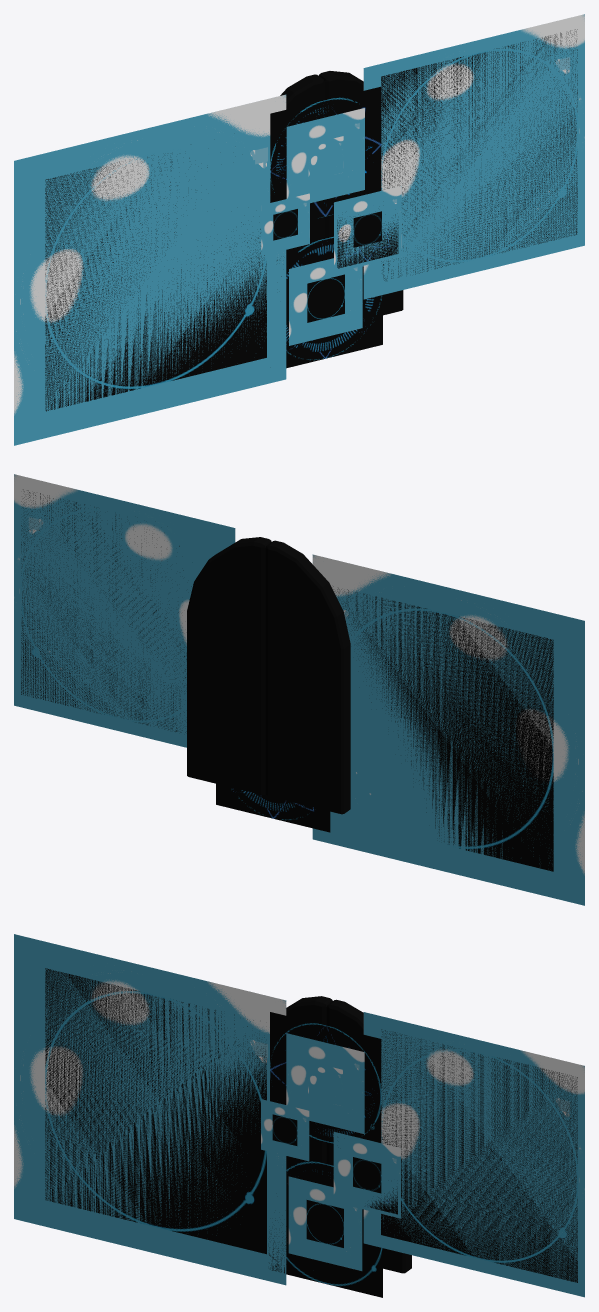
The model's file is Door_Animated.fbx.
3 renders of one model, top to bottom at view 1: azimuth 30°, elevation 25°; view 2: azimuth 150°, elevation 25°; view 3: azimuth 330°, elevation 25°, orthographic.
Visible parts, largest first — view 1: Plane.016, Plane.017, Plane.018, Plane.019, Plane.003, Plane.001, Plane.008, Plane.011, Plane.013, Plane.004, Plane.006, Cube (+10 smaller); view 2: Plane.016, Plane.017, Plane.018, Cube.001, Cube, Plane.019, Plane.014, Plane.013, Plane.009; view 3: Plane.016, Plane.017, Plane.018, Plane.019, Plane.003, Plane.004, Plane.009, Plane.008, Plane.001, Plane.011, Plane.006, Cube (+6 smaller).
Part boxes in pixels (bbox=[...]): Plane.016: bbox=[14, 94, 286, 445]; Plane.017: bbox=[363, 14, 584, 299]; Plane.018: bbox=[45, 156, 266, 411]; Plane.019: bbox=[381, 29, 577, 280]; Plane.003: bbox=[286, 108, 364, 203]; Plane.001: bbox=[334, 186, 401, 272]; Plane.008: bbox=[289, 258, 362, 345]; Plane.011: bbox=[270, 87, 381, 219]; Plane.013: bbox=[277, 243, 375, 359]; Plane.004: bbox=[270, 86, 380, 220]; Plane.006: bbox=[261, 193, 309, 255]; Cube: bbox=[319, 71, 403, 315]; Plane.016: bbox=[312, 554, 584, 905]; Plane.017: bbox=[14, 474, 235, 747]; Plane.018: bbox=[333, 586, 553, 871]; Cube.001: bbox=[265, 540, 350, 814]; Cube: bbox=[187, 537, 271, 794]; Plane.019: bbox=[21, 489, 192, 732]; Plane.014: bbox=[216, 784, 330, 832]; Plane.013: bbox=[223, 785, 323, 821]; Plane.009: bbox=[216, 784, 329, 826]; Plane.016: bbox=[14, 934, 286, 1285]; Plane.017: bbox=[363, 1012, 584, 1297]; Plane.018: bbox=[45, 968, 266, 1254]; Plane.019: bbox=[381, 1029, 577, 1282]; Plane.003: bbox=[286, 1033, 364, 1134]; Plane.004: bbox=[270, 1012, 381, 1143]; Plane.009: bbox=[269, 1157, 382, 1297]; Plane.008: bbox=[288, 1176, 362, 1270]; Plane.001: bbox=[333, 1132, 400, 1218]; Plane.011: bbox=[270, 1012, 380, 1141]; Plane.006: bbox=[261, 1099, 309, 1161]; Cube: bbox=[326, 999, 411, 1273].
Bounding box in the file's own units: 626 × 307 × 16.68.
7 materials, 6 textured.
